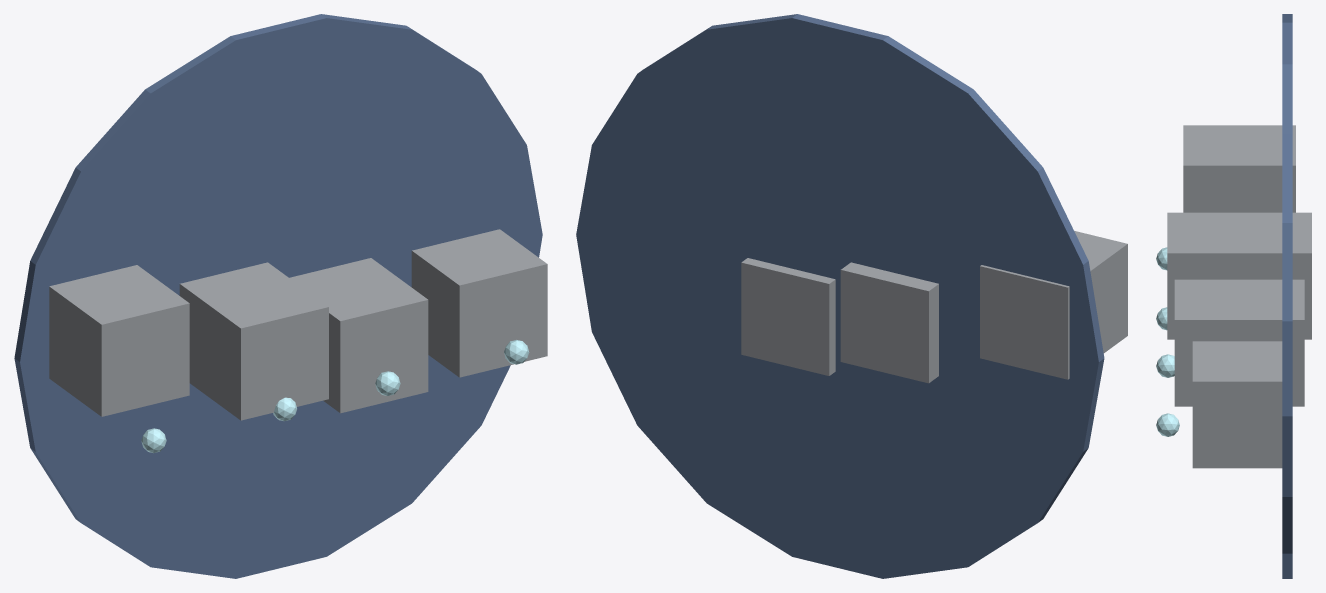
File: 03_ambient_object_cluster.glb
3 views of the same model, side by side, from view 1: azimuth 30°, elevation 25°; view 2: azimuth 150°, elevation 25°; view 3: azimuth 270°, elevation 25° (orthographic). The views are drawn at different scales.
Visible parts, largest first — view 1: scatter_base, tech_crate_1, tech_crate_0, tech_crate_3, tech_crate_2; view 2: scatter_base, tech_crate_0, tech_crate_1, tech_crate_2; view 3: tech_crate_3, tech_crate_1, tech_crate_2, tech_crate_0, scatter_base, status_light_3, status_light_2, status_light_0, status_light_1.
Boxes of the visible parts, bbox=[...] form: scatter_base: bbox=[14, 14, 542, 578]; tech_crate_1: bbox=[179, 262, 328, 420]; tech_crate_0: bbox=[49, 265, 189, 416]; tech_crate_3: bbox=[411, 229, 547, 377]; tech_crate_2: bbox=[289, 258, 428, 413]; scatter_base: bbox=[576, 14, 1104, 578]; tech_crate_0: bbox=[980, 230, 1127, 379]; tech_crate_1: bbox=[840, 262, 938, 383]; tech_crate_2: bbox=[741, 258, 835, 375]; tech_crate_3: bbox=[1192, 341, 1282, 468]; tech_crate_1: bbox=[1167, 212, 1311, 339]; tech_crate_2: bbox=[1174, 279, 1304, 406]; tech_crate_0: bbox=[1183, 125, 1295, 212]; scatter_base: bbox=[1282, 14, 1292, 578]; status_light_3: bbox=[1156, 413, 1179, 436]; status_light_2: bbox=[1156, 354, 1174, 377]; status_light_0: bbox=[1156, 247, 1167, 270]; status_light_1: bbox=[1156, 307, 1167, 330].
Bounding box in the file's own units: 1.9 × 1.87 × 0.5219.
